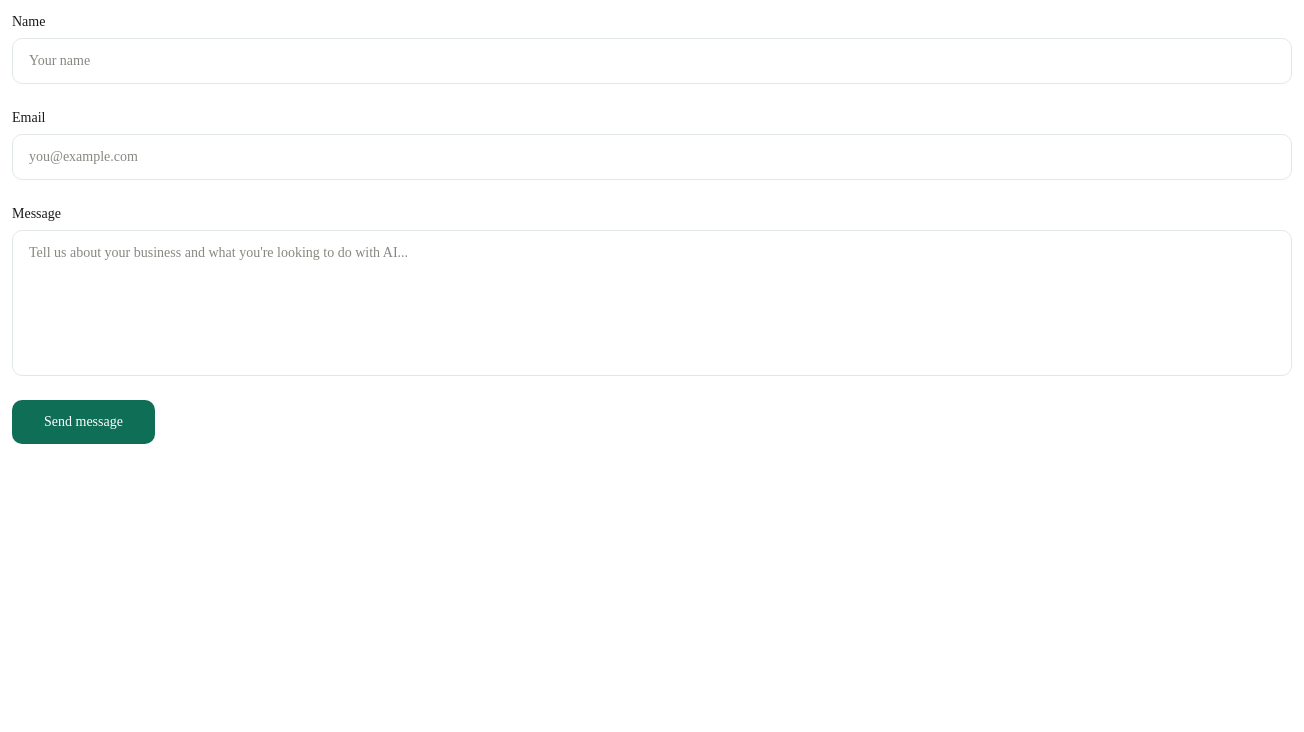
Scenario: ContactForm › clears a field error when the user starts typing in that field
Click the button "Send message": (83,422) [12,400,155,444]
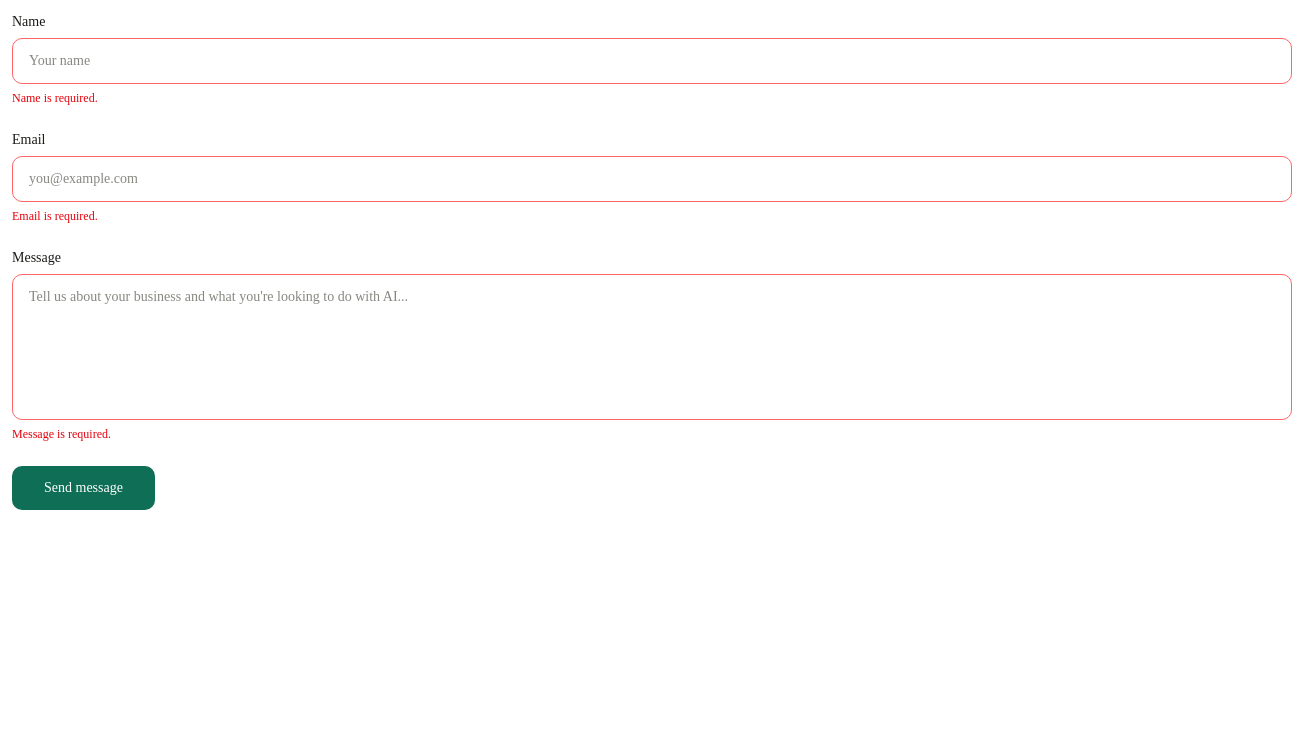
Check: the text "Name is required." is shown, box [12,91,98,105]
In the field labelled "Name": (652,61) [12,38,1292,84], type "T"
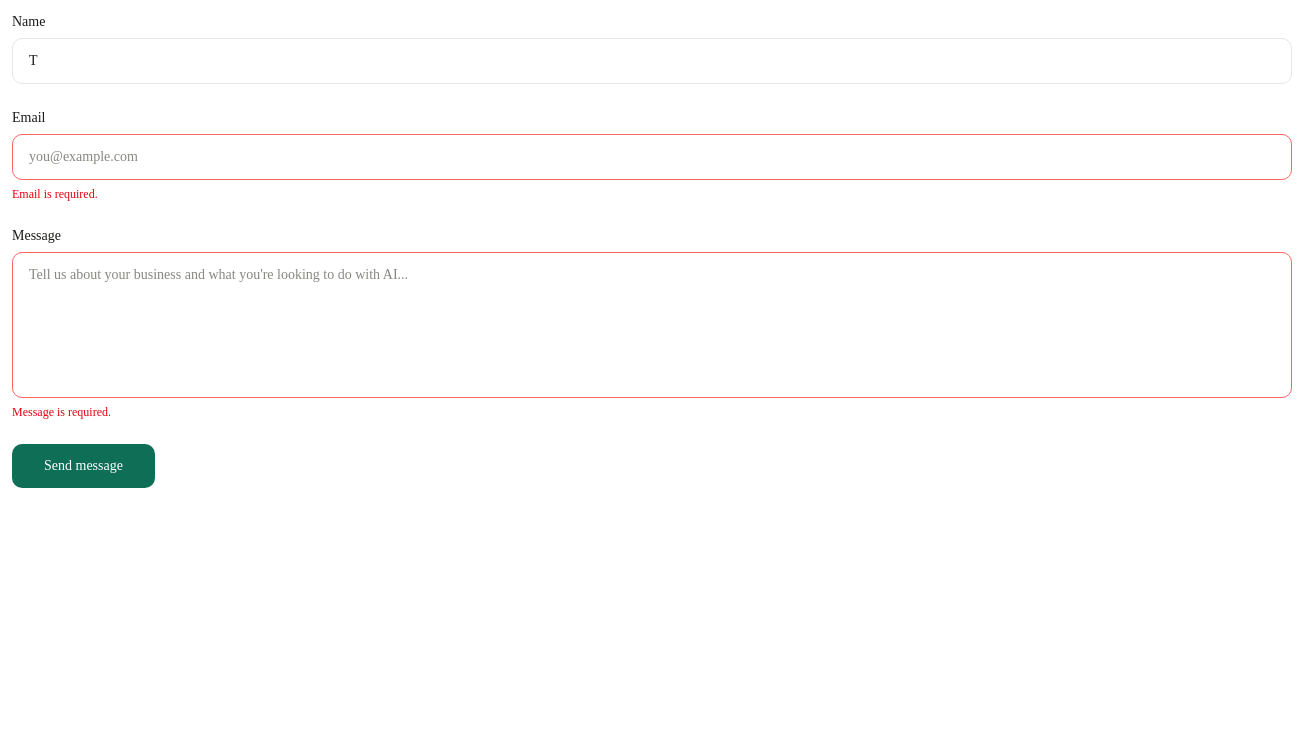
Check: the text "Name is required." is gone
